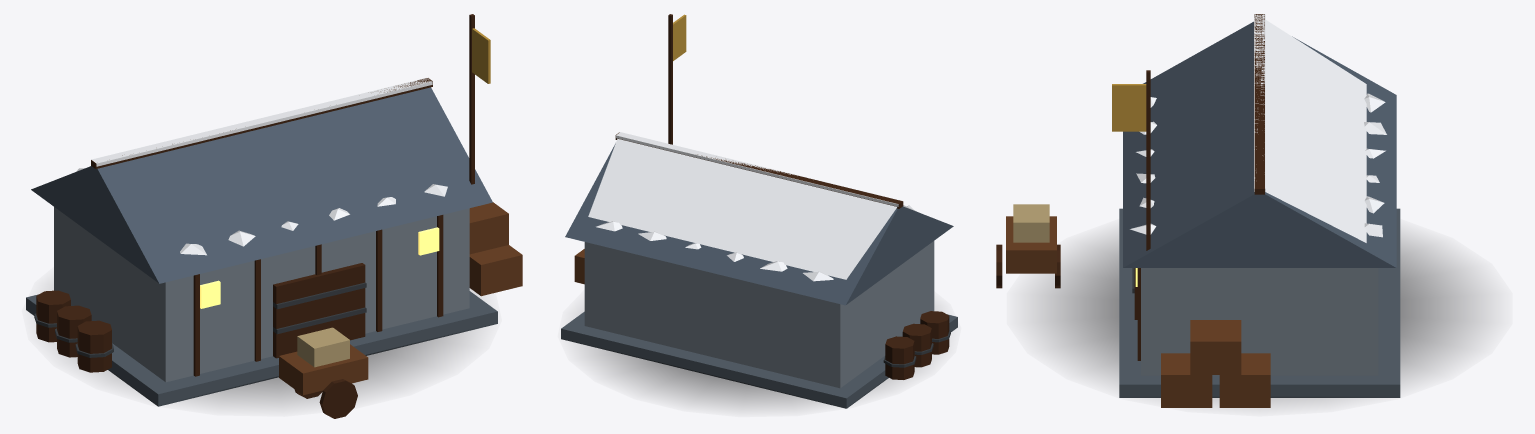
File: war_depot_t1.glb
The picture shows the model from 3 angles, left to right: view 1: azimuth 30°, elevation 25°; view 2: azimuth 150°, elevation 25°; view 3: azimuth 270°, elevation 25°; orthographic projection. The views are drawn at different scales.
Parts seen in each view (by area): view 1: war_depot_t1; view 2: war_depot_t1; view 3: war_depot_t1.
Part boxes in pixels (x1,y1,x2,y2): war_depot_t1: (26, 14, 522, 418); war_depot_t1: (561, 14, 957, 408); war_depot_t1: (996, 14, 1480, 407).
Bounding box in the file's own units: 7.21 × 4.84 × 7.17.
